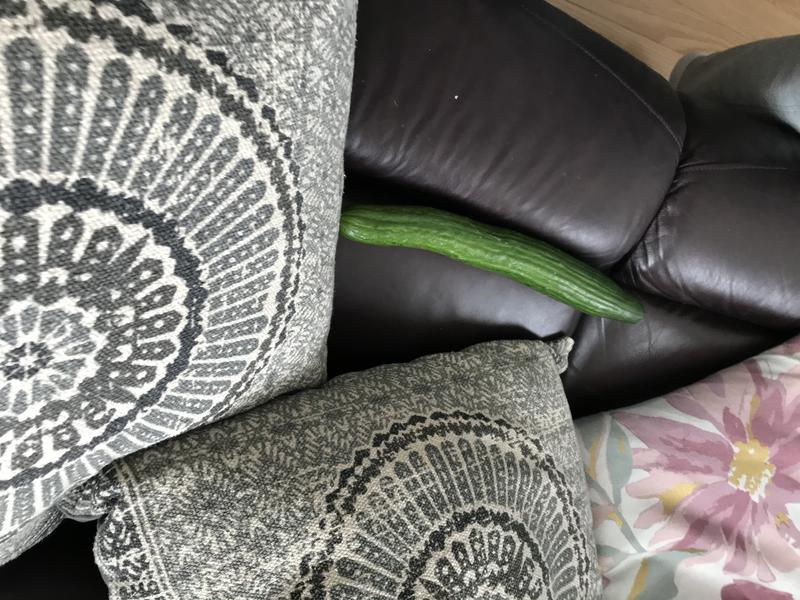cucumber: (318, 192, 658, 337)
